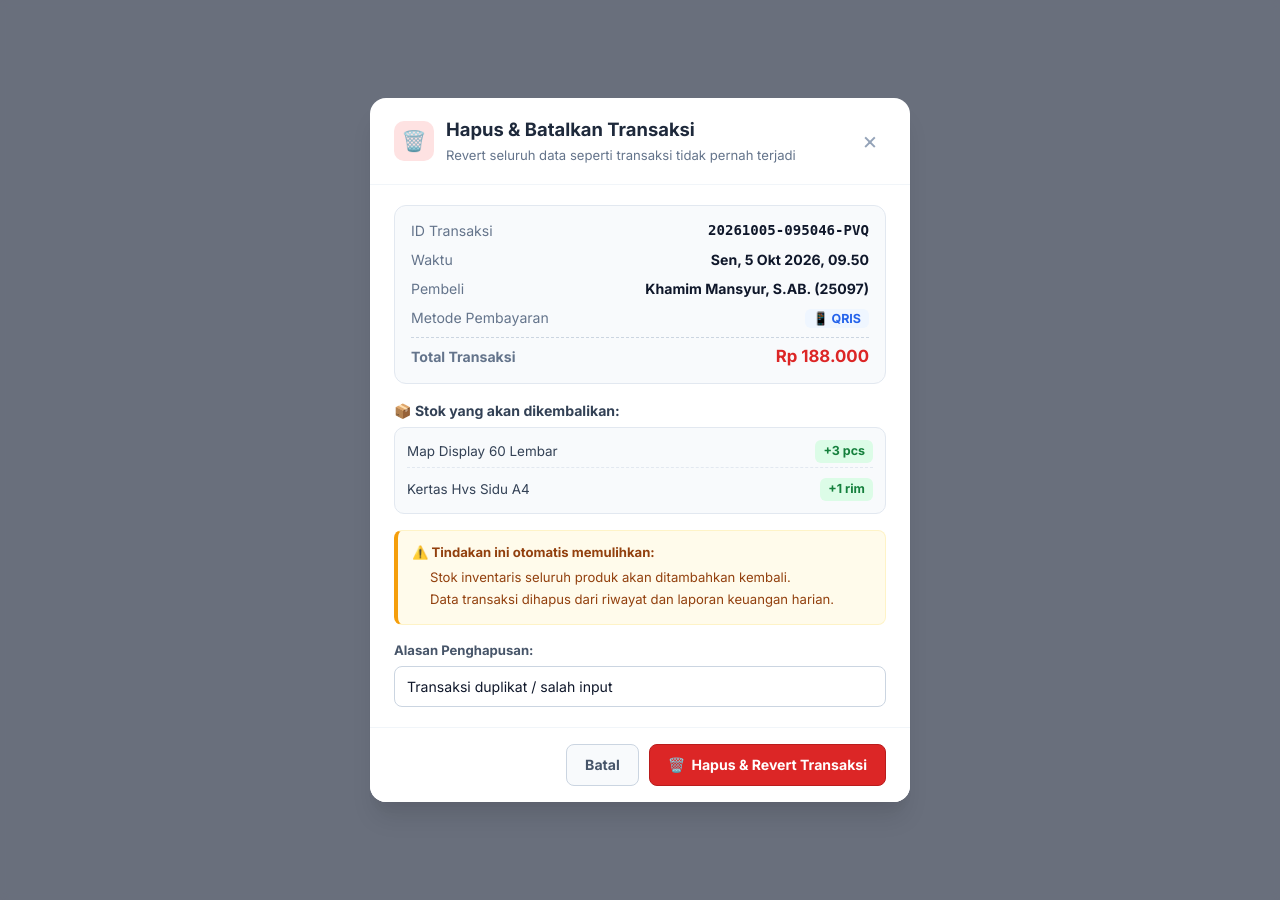
Scenario: DeleteTransactionModal › displays error message if revert fails
The width and height of the screenshot is (1280, 900).
Click the button "🗑️ Hapus & Revert Transaksi" at (767, 765), box [649,744,886,786]
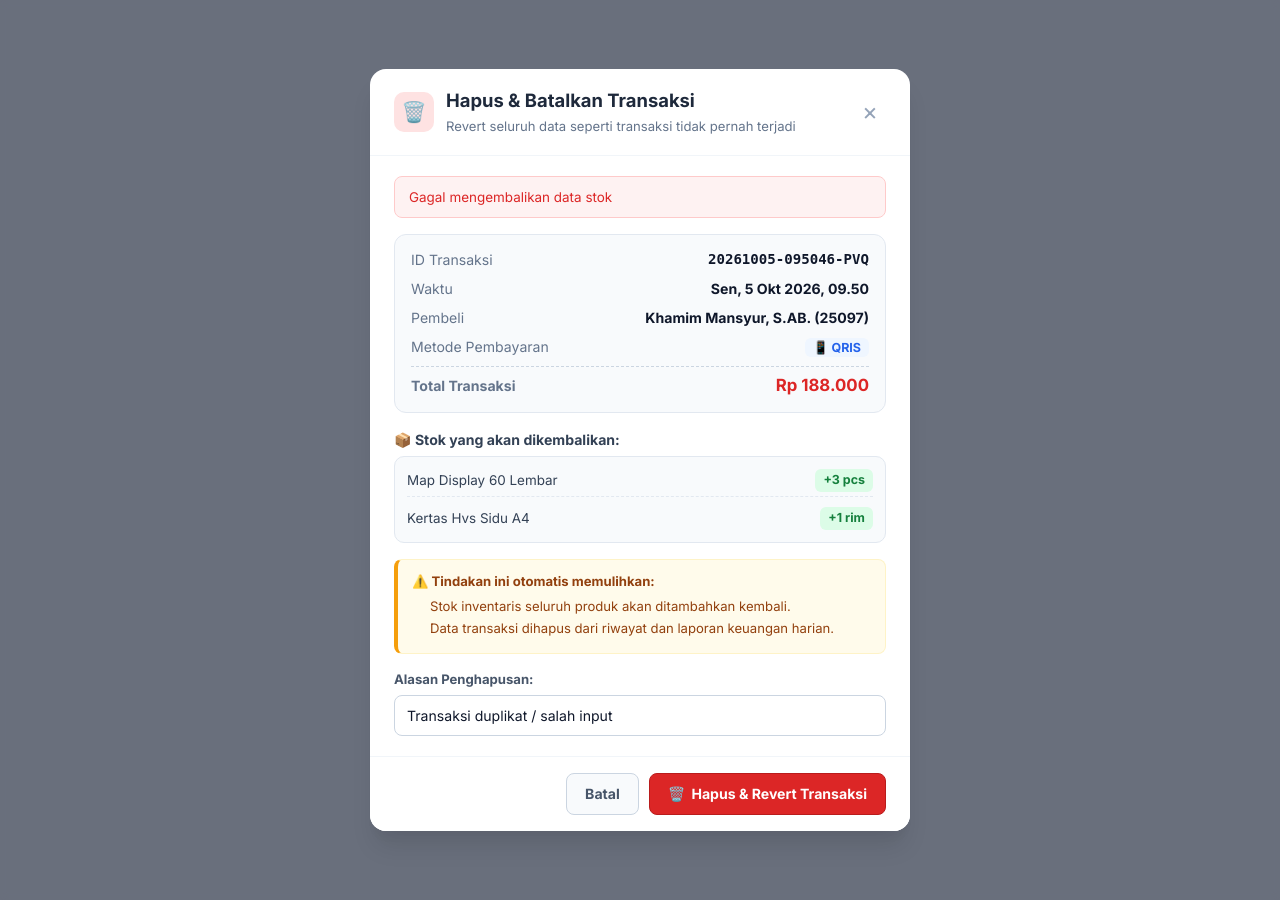
Result: the text "Gagal mengembalikan data stok" is shown at [394,176,886,218]
